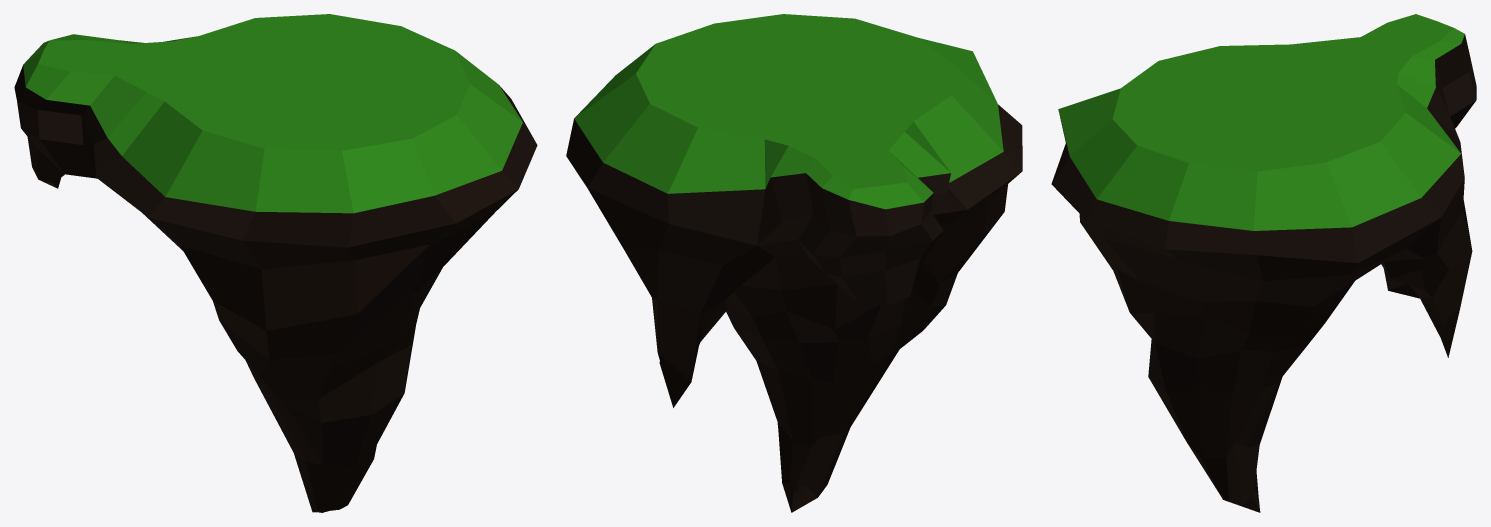
Rendered from Island1.FBX.
3 renders of one model, left to right at view 1: azimuth 30°, elevation 25°; view 2: azimuth 150°, elevation 25°; view 3: azimuth 270°, elevation 25°, orthographic. The views are drawn at different scales.
Visible parts, largest first — view 1: Mesh_Island_001; view 2: Mesh_Island_001; view 3: Mesh_Island_001.
Boxes of the visible parts, x1,y1,x2,y2 form: Mesh_Island_001: [14, 14, 537, 512]; Mesh_Island_001: [566, 14, 1022, 512]; Mesh_Island_001: [1051, 14, 1476, 512].
Size of the model in its own units: 1420 by 1445 by 1360.
